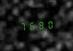eight: (36, 19, 44, 30)
seven: (18, 21, 26, 31)
six: (27, 20, 35, 31)
zero: (45, 19, 53, 29)
